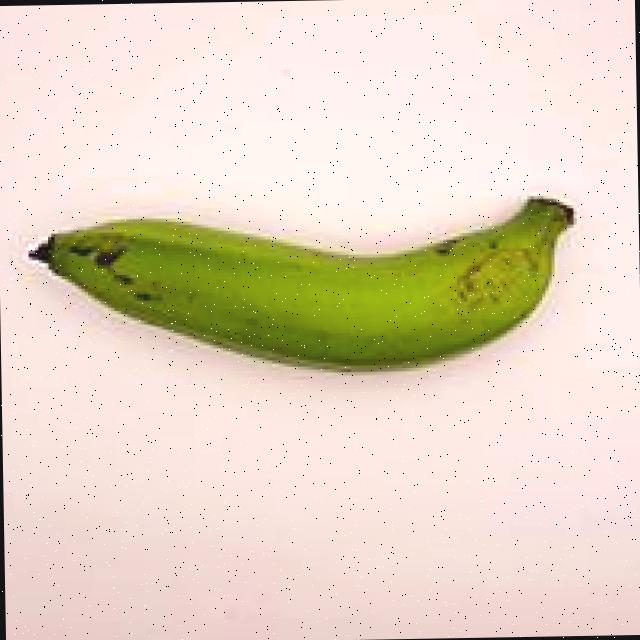Raw: (26, 156, 595, 422)
